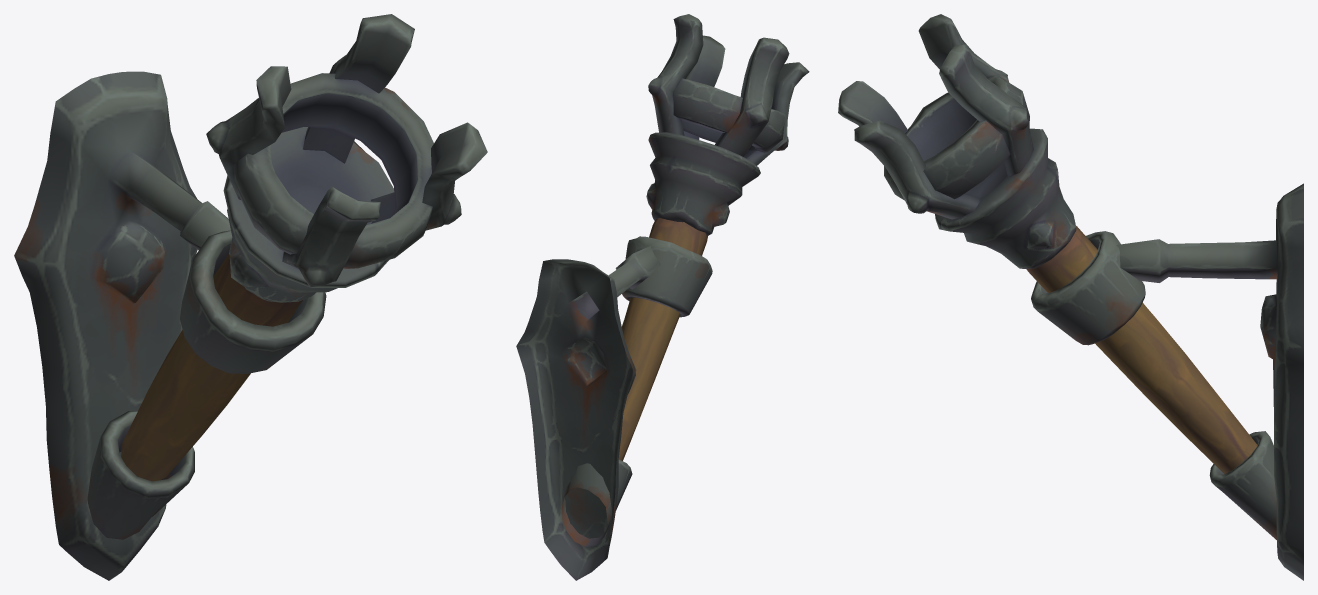
File: SM_FW01_Torch_Wall_01.fbx
The picture shows the model from 3 angles, left to right: view 1: azimuth 30°, elevation 25°; view 2: azimuth 150°, elevation 25°; view 3: azimuth 270°, elevation 25°; orthographic projection. The views are drawn at different scales.
Parts seen in each view (by area): view 1: SM_FW01_Torch_Wall_01_LOD0; view 2: SM_FW01_Torch_Wall_01_LOD0; view 3: SM_FW01_Torch_Wall_01_LOD0.
Boxes of the visible parts, x1=… form: SM_FW01_Torch_Wall_01_LOD0: x1=14, y1=14, x2=487, y2=580; SM_FW01_Torch_Wall_01_LOD0: x1=516, y1=14, x2=809, y2=580; SM_FW01_Torch_Wall_01_LOD0: x1=838, y1=14, x2=1303, y2=580.
Size of what is drawn, in the model's own units: 0.2554 by 0.8745 by 0.6727.
